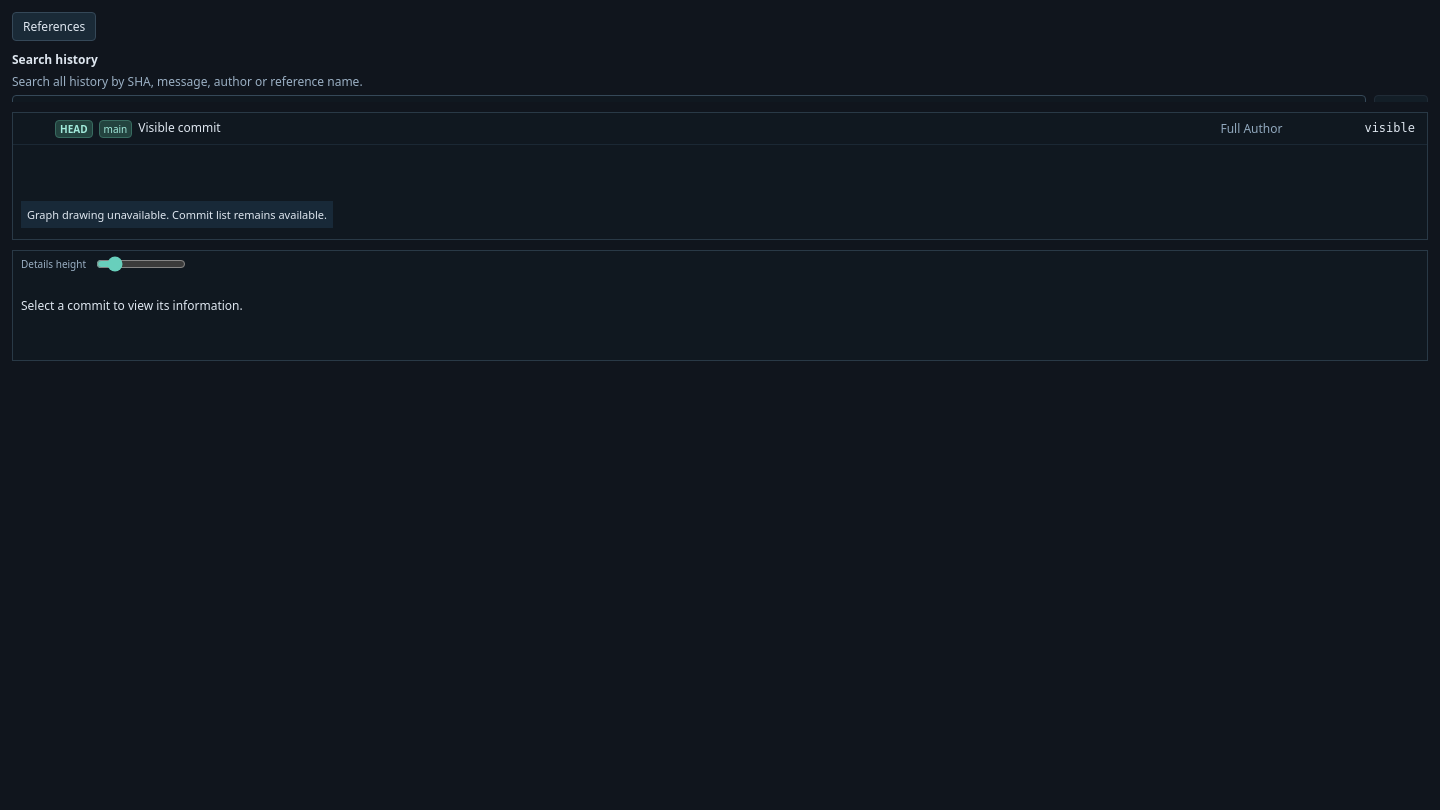
integrates graph/sidebar/search with real store callbacks and keeps outside-filter selection out of graph navigation
Step 1. Click the row → x=720, y=129, box [13,113,1427,145]
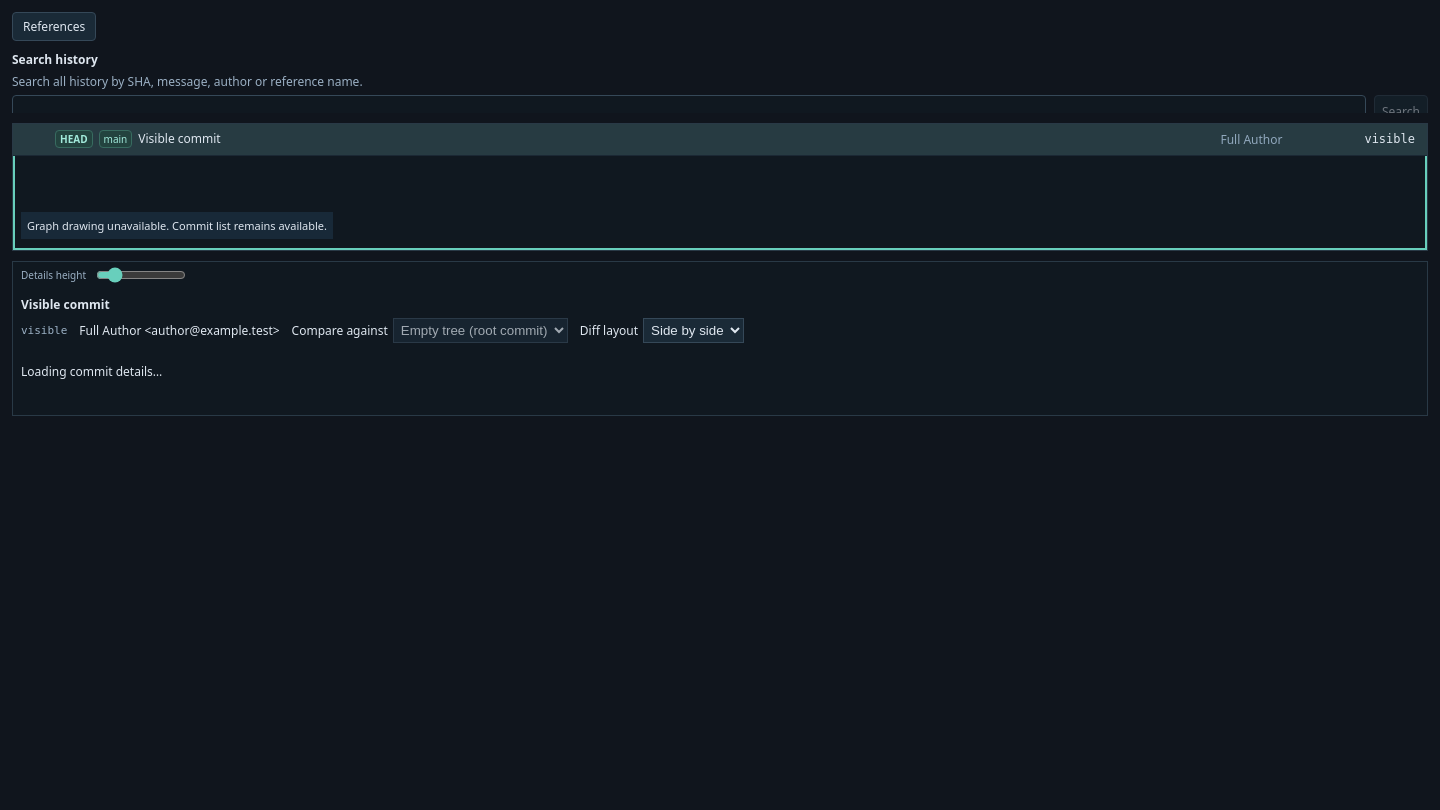
Step 2. Type "Full Author" into the search field → x=689, y=112, box [12,95,1366,128]
Step 3. Click the button "Search" → x=1401, y=112, box [1374,95,1428,128]
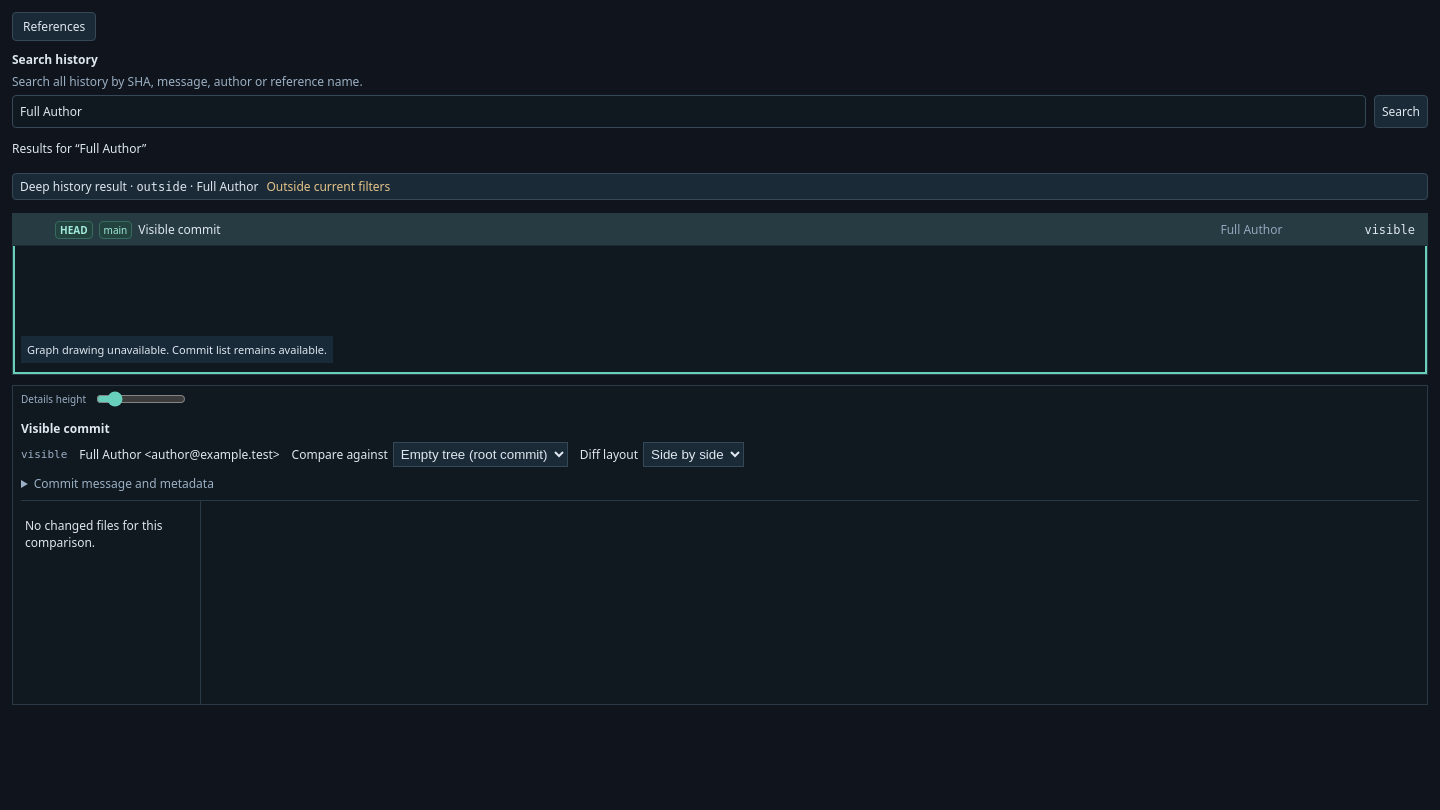
Step 4. Click the button "Deep history result" → x=73, y=186, box [12,173,1428,200]
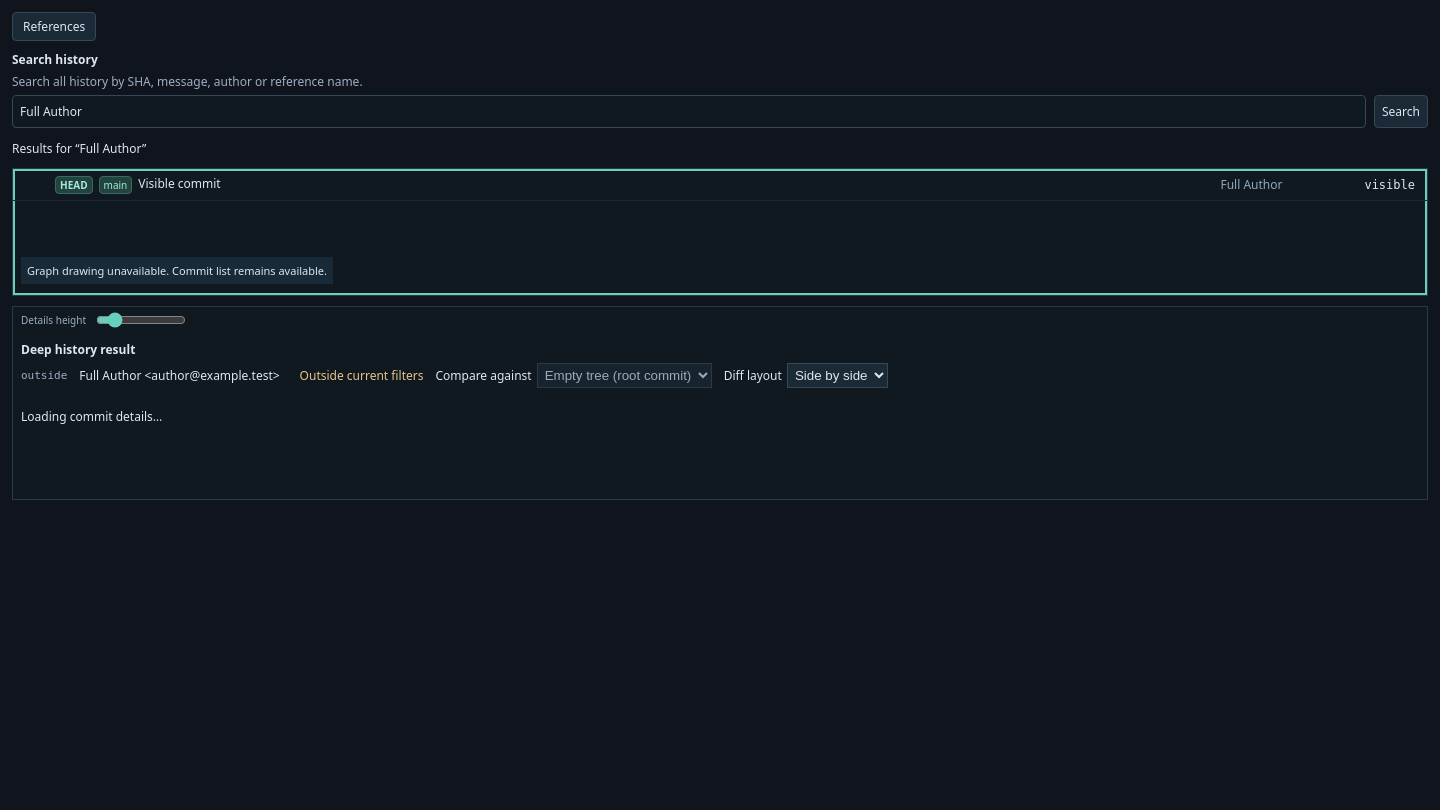
Check: the number of rows is 1, box [13,169,1427,201]
Check: the text "Outside current filters" is shown, box [300,367,423,384]
Step 5. Click the button "References" → x=54, y=26, box [12,12,96,41]
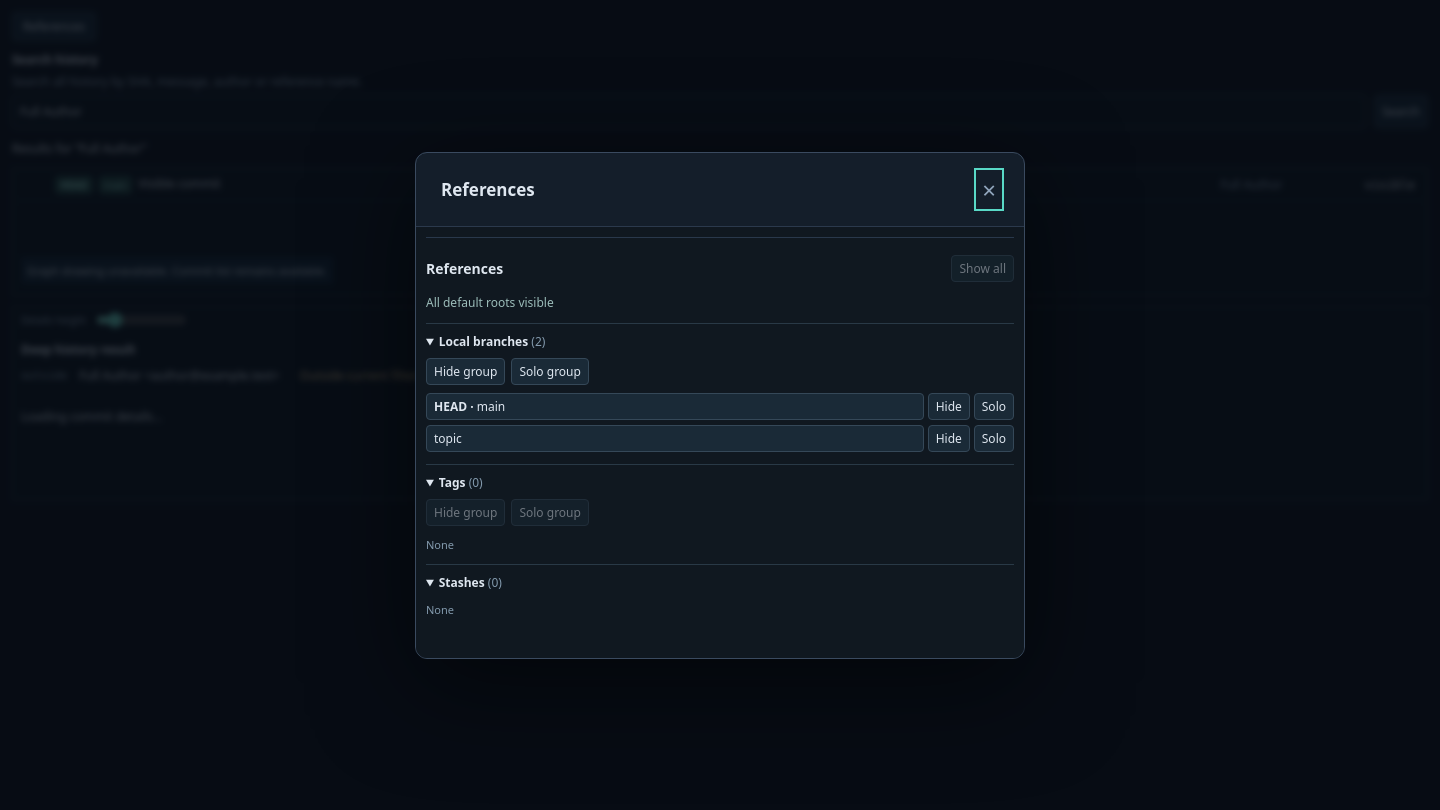
Step 6. Click the button "topic" → x=448, y=438, box [426,424,924,452]
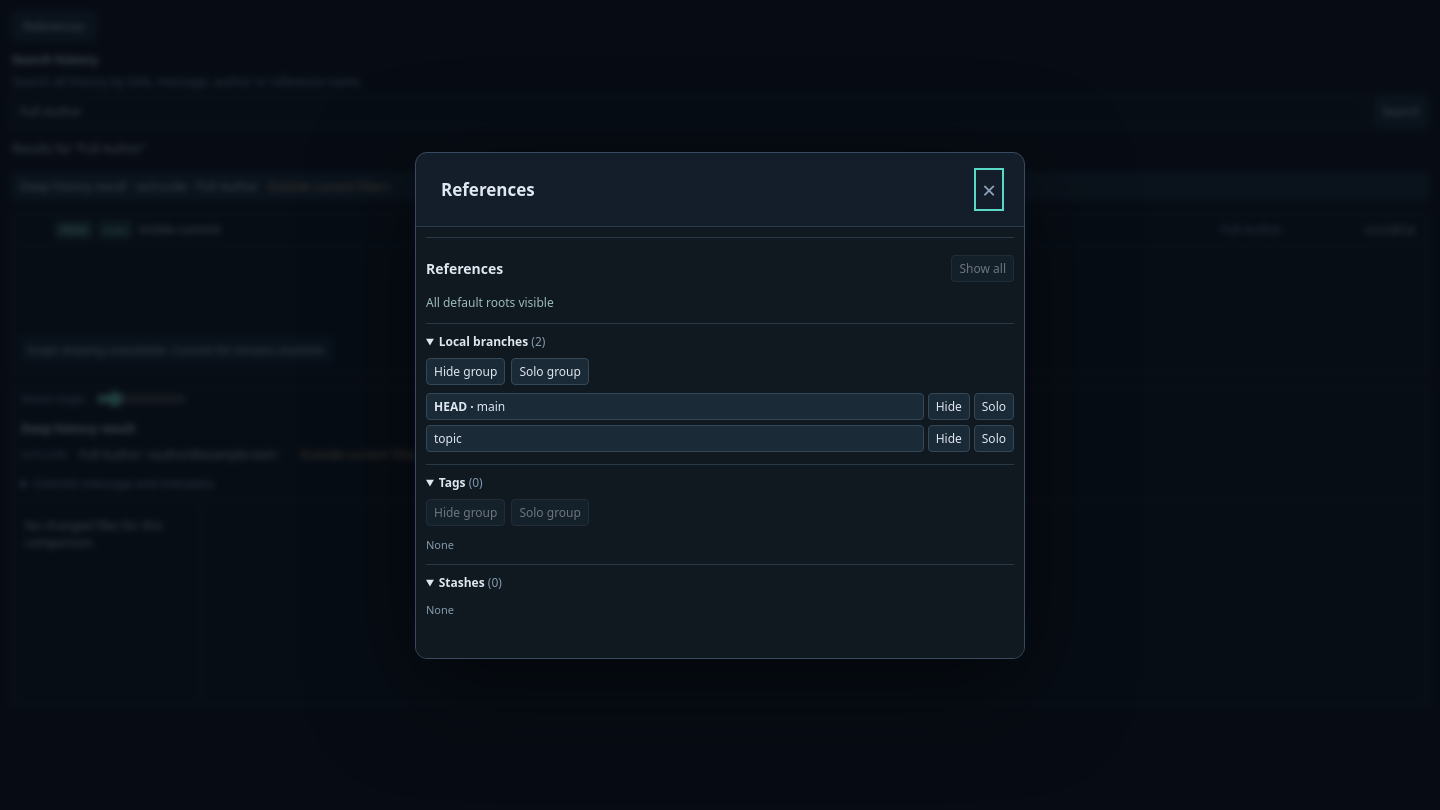
Step 7. Click the button with aria-label "Solo refs/heads/main" → x=994, y=406, box [974,392,1014,420]
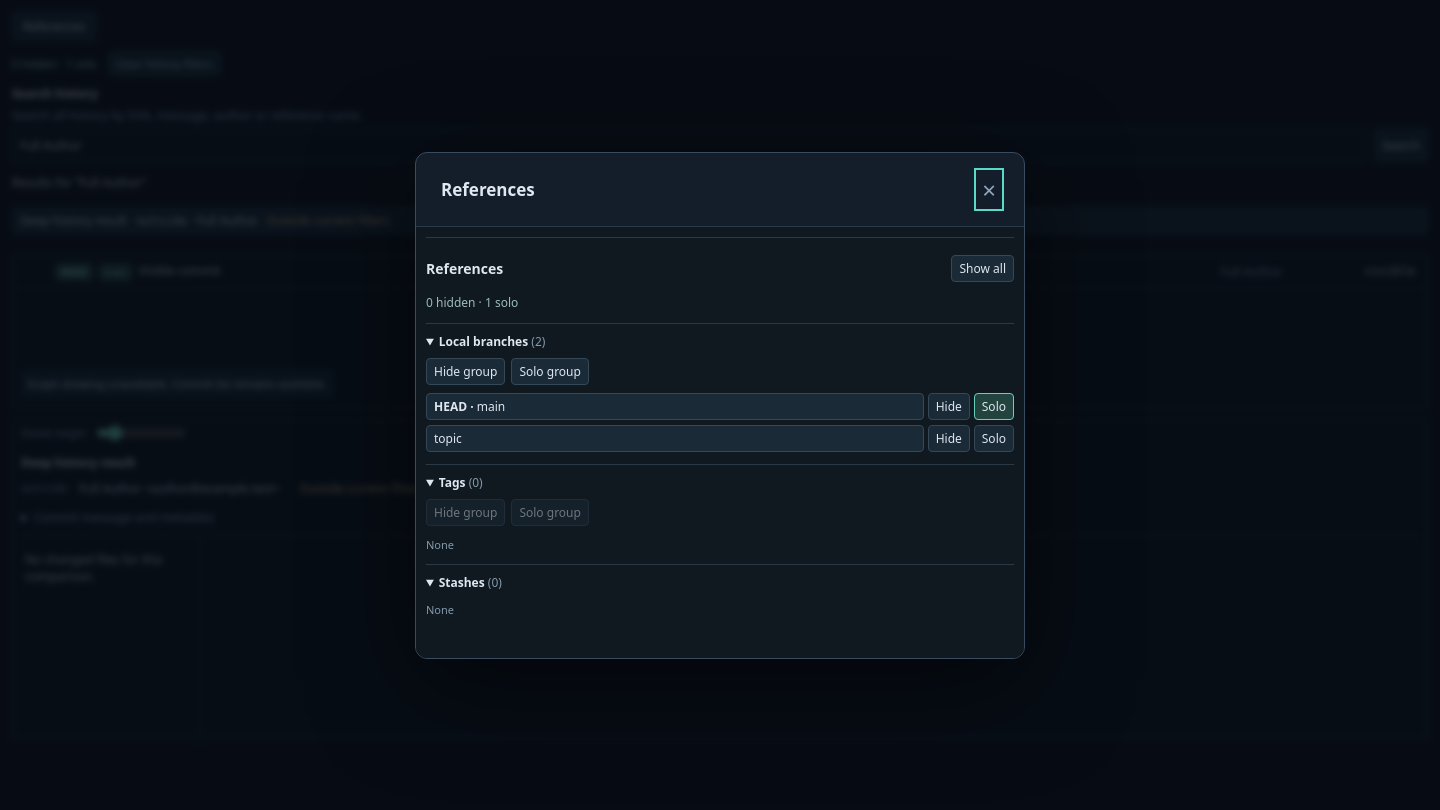
Check: the message "0 hidden · 1 solo" is shown, box [426,294,518,310]
